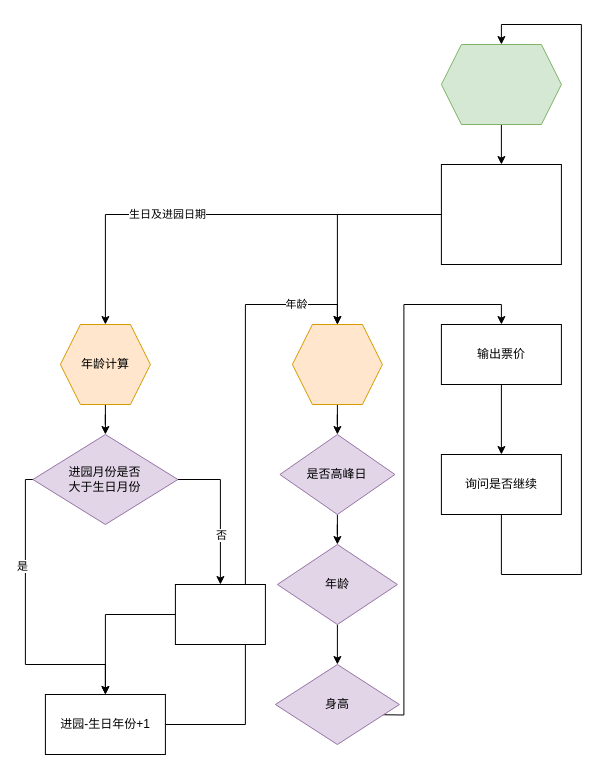
Image size: 607x772. Some labels were removed from this diagram. The centre of each missing label's shape, as x and y in pixels:
生日年月日 进园年月日 身高 是否残障 几日票: point (500, 214)
票价判定: point (336, 364)
输入: point (500, 84)
进园年数减一: point (219, 614)
